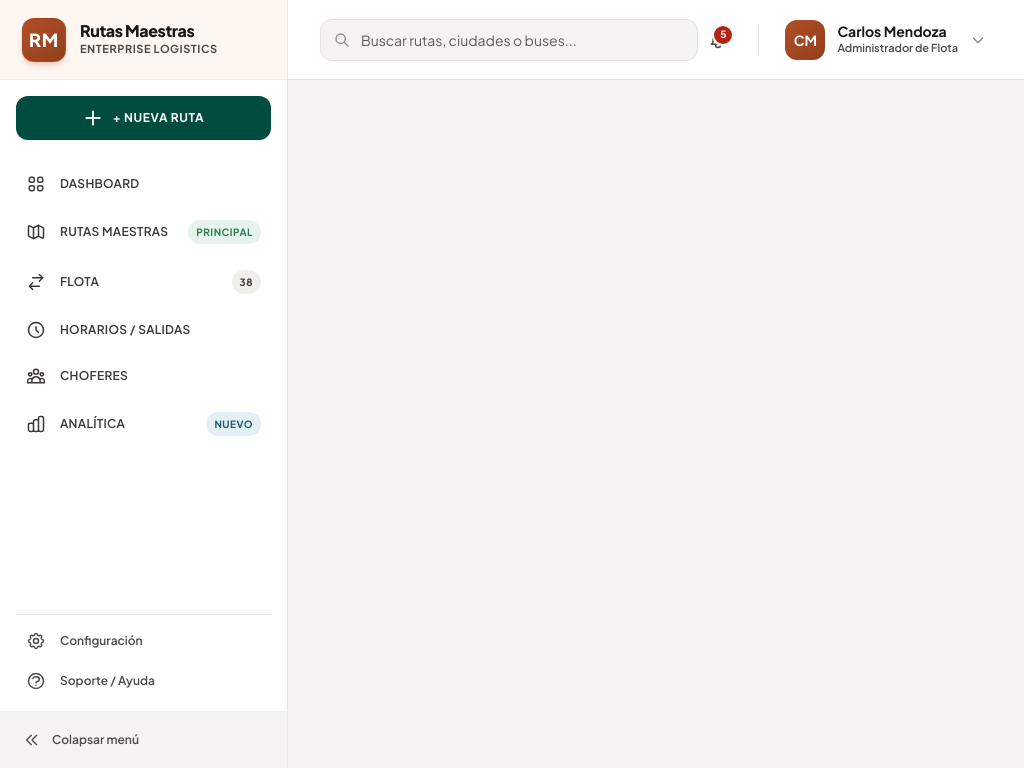
Scenario: NavbarComponent (TDD Suite - Rutas Maestras) › 8. Perfil de Usuario y Notificaciones › debe alternar el dropdown del menú de usuario al hacer clic en el avatar
Click the button with test id "btn-user-menu" at [886, 40], box [779,14,992,66]
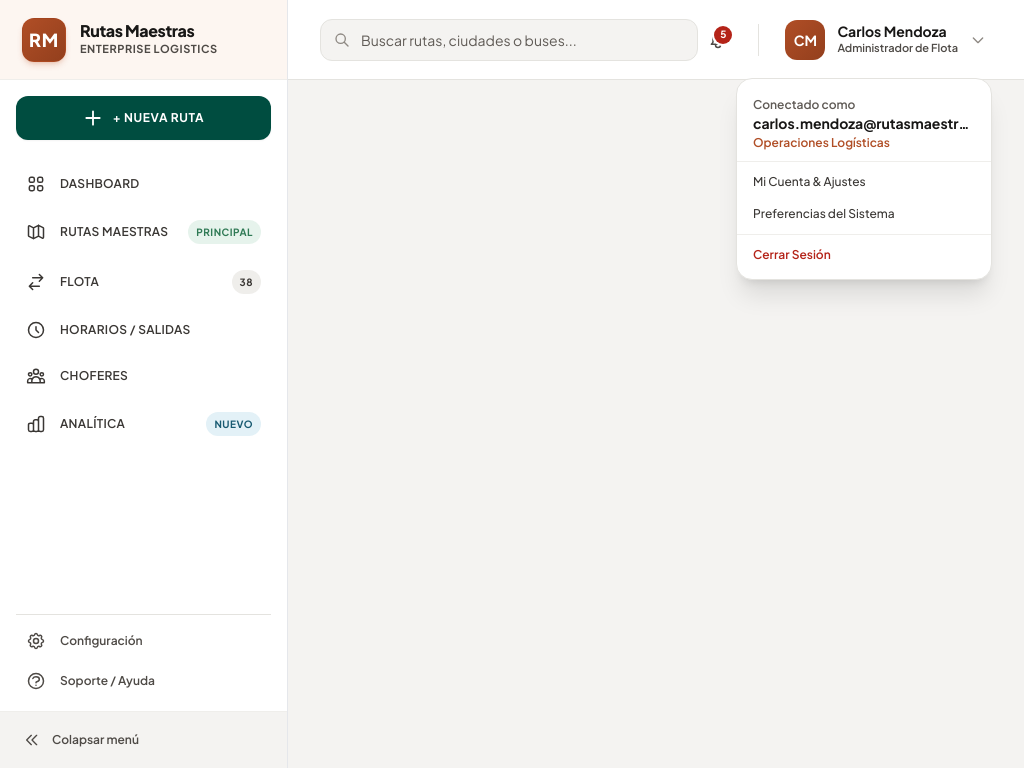
Now the element with test id "user-menu-dropdown" is shown, box [736,78,992,280]
